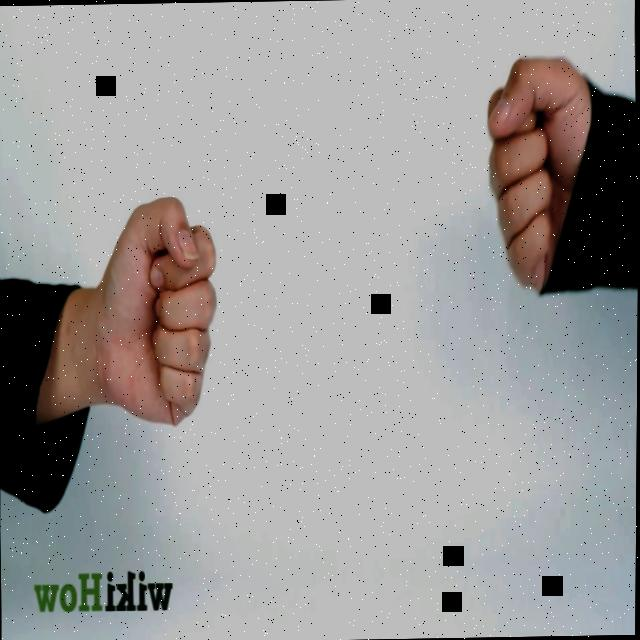Rock: (95, 190, 220, 427), (485, 52, 594, 308)
